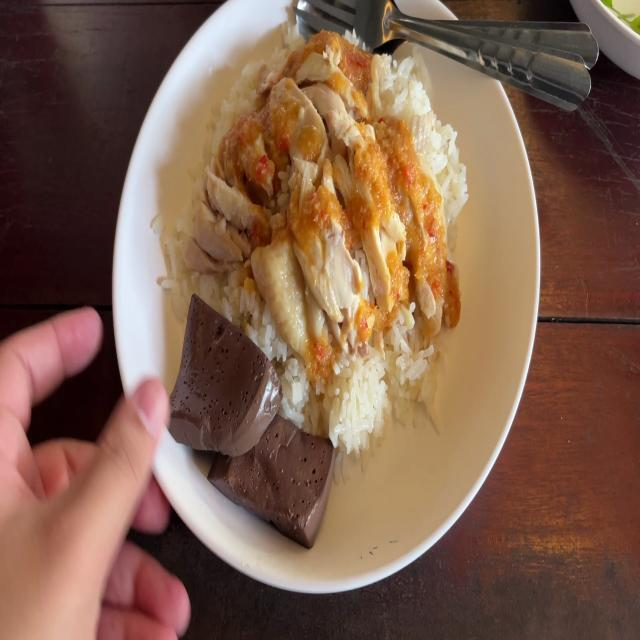boiled_chicken: (227, 58, 420, 321)
boiled_chicken_blood_jelly: (174, 286, 274, 462), (216, 395, 328, 537)
chicken_rice: (170, 19, 477, 545)
